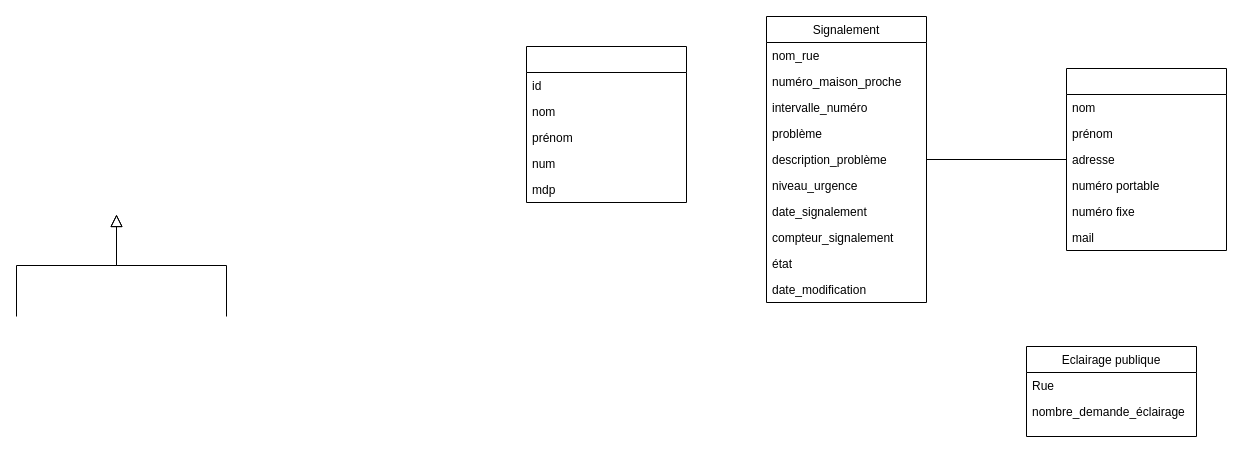
This 1243x453 diagram has some shape labels left out. Here are the shapes that lost their labels. From the top down, the box of each, then its label:
(526, 46, 686, 202): Agent
(1066, 68, 1226, 250): Habitant
